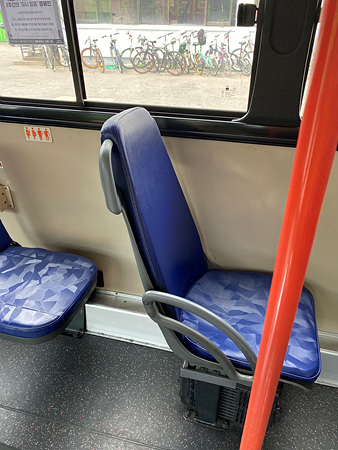seat: (100, 107, 320, 385)
